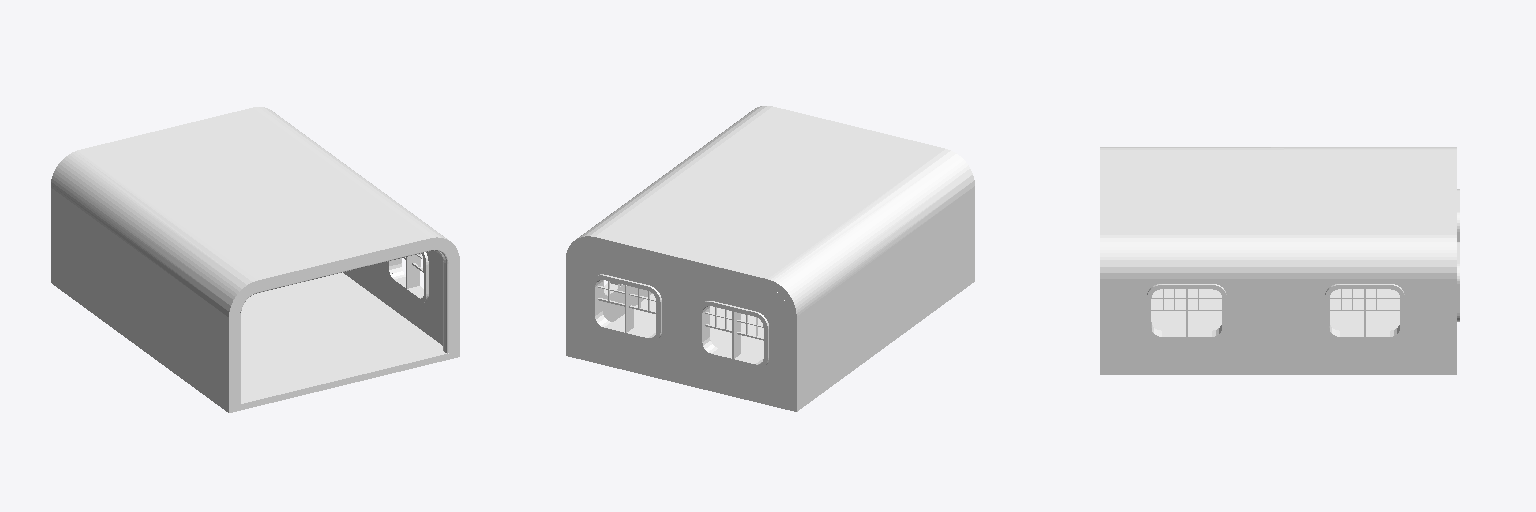
The picture shows the model from 3 angles: view 1: azimuth 30°, elevation 25°; view 2: azimuth 150°, elevation 25°; view 3: azimuth 270°, elevation 25°; orthographic projection.
Visible parts, largest first — view 1: object_37, object_35, object_36, object_33, object_51, object_24; view 2: object_37, object_35, object_34, object_36, object_33, object_1, object_9; view 3: object_33, object_37, object_36, object_24, object_32, object_35.
Boxes of the visible parts, x1,y1,x2,y2 form: object_37: [80, 108, 430, 287]; object_35: [51, 150, 257, 406]; object_36: [51, 272, 459, 412]; object_33: [253, 107, 459, 352]; object_51: [237, 246, 451, 404]; object_24: [386, 252, 428, 302]; object_37: [595, 107, 944, 286]; object_35: [768, 149, 974, 405]; object_34: [573, 245, 788, 403]; object_36: [566, 276, 974, 411]; object_33: [566, 106, 772, 350]; object_1: [591, 274, 661, 342]; object_9: [698, 301, 768, 368]; object_33: [1100, 235, 1456, 367]; object_37: [1100, 150, 1456, 234]; object_36: [1100, 289, 1456, 374]; object_24: [1147, 284, 1226, 340]; object_32: [1325, 284, 1404, 340]; object_35: [1100, 147, 1456, 149].
Bounding box in the file's own units: 8.07 × 4.15 × 10.75.